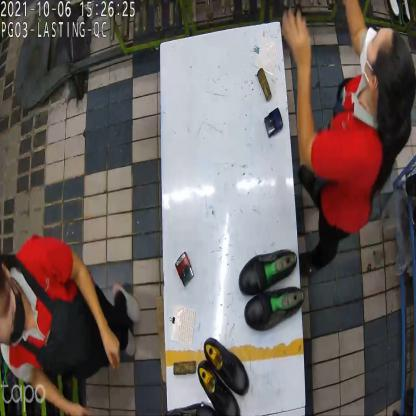shoes: (239, 248, 303, 335), (199, 332, 248, 416)
stamp: (266, 106, 286, 140), (176, 248, 192, 282)
